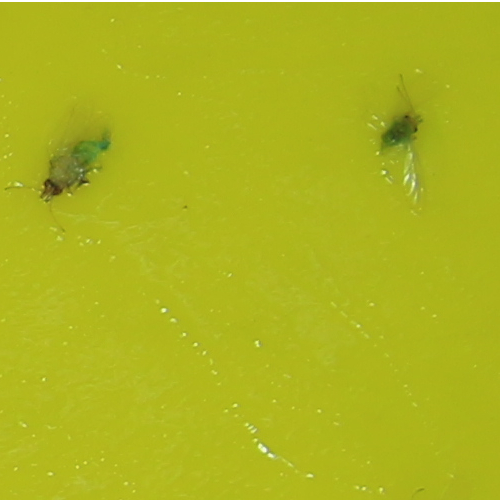Glycaspis: (38, 136, 110, 201), (379, 110, 423, 152)
